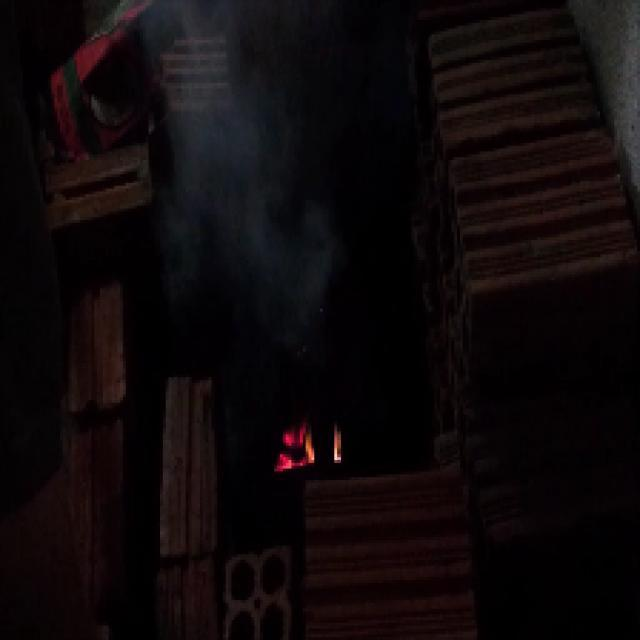Fire: (274, 417, 346, 474)
Smoke: (138, 0, 347, 293)
